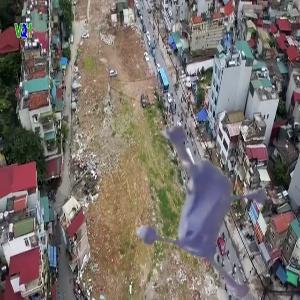drone: (84, 91, 288, 295)
